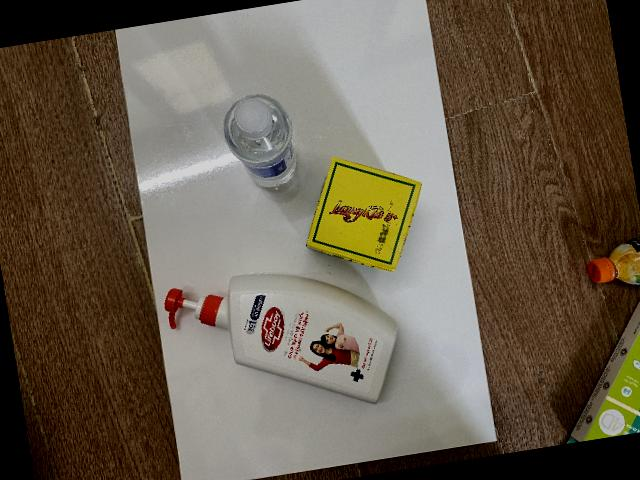aquafina: (222, 95, 295, 188)
life-buoy: (163, 274, 397, 404)
luong_kho: (306, 157, 422, 273)
